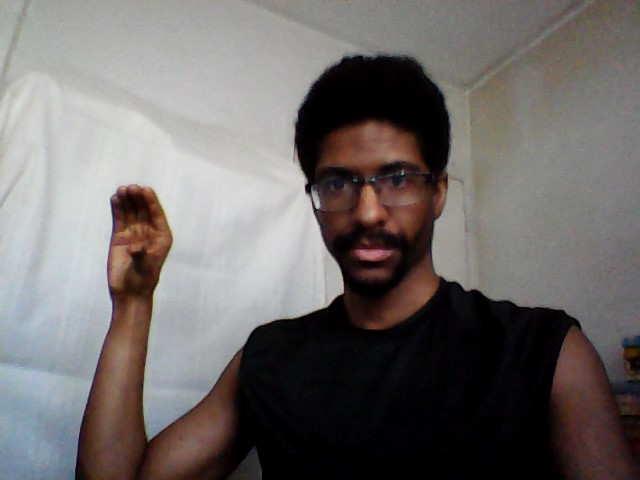c: (102, 178, 177, 301)
